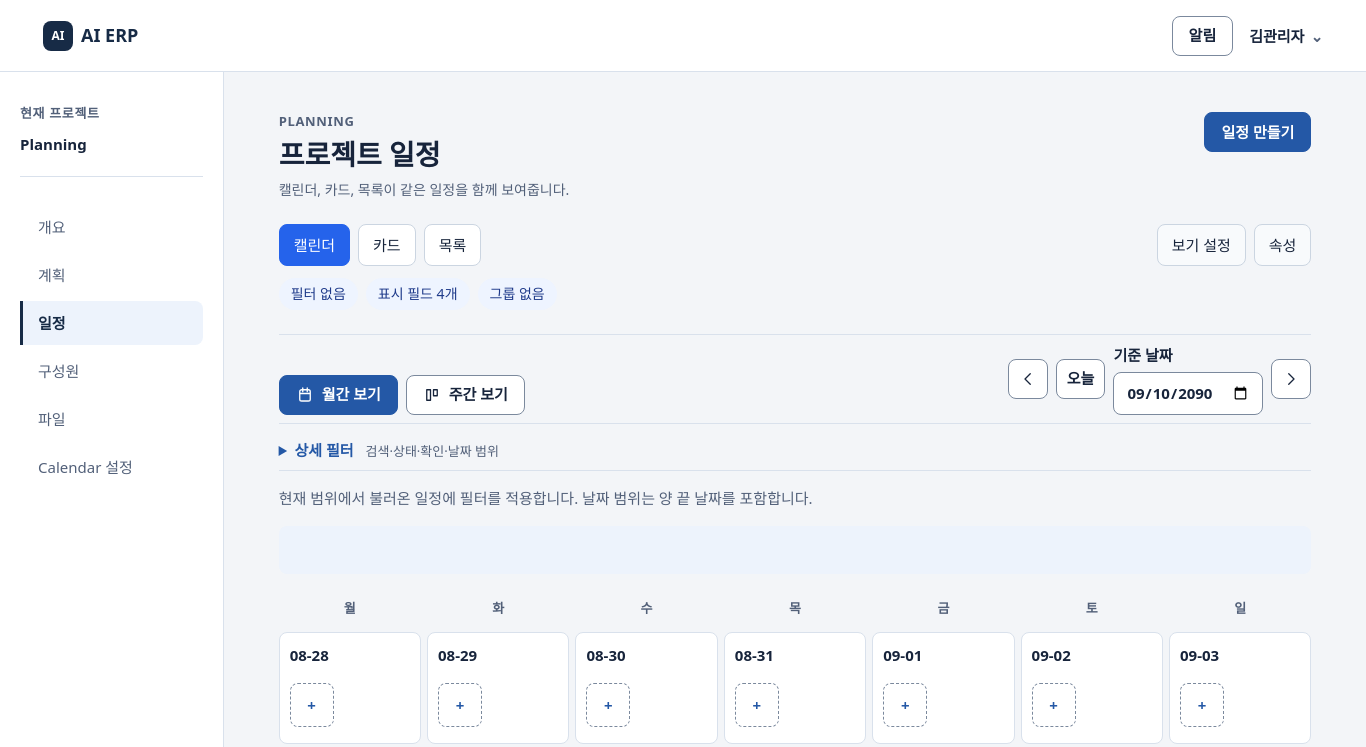
Test: P03 civil-date request includes the entire day across skipped/repeated midnight: America/Santiago
Check: the element named "날짜 이후" is shown, box [279,432,1311,471]
Click the heading "상세 필터 검색·상태·확인·날짜 범위". click: (397, 450)
box: [294,440,499,460]
(page scrolled)
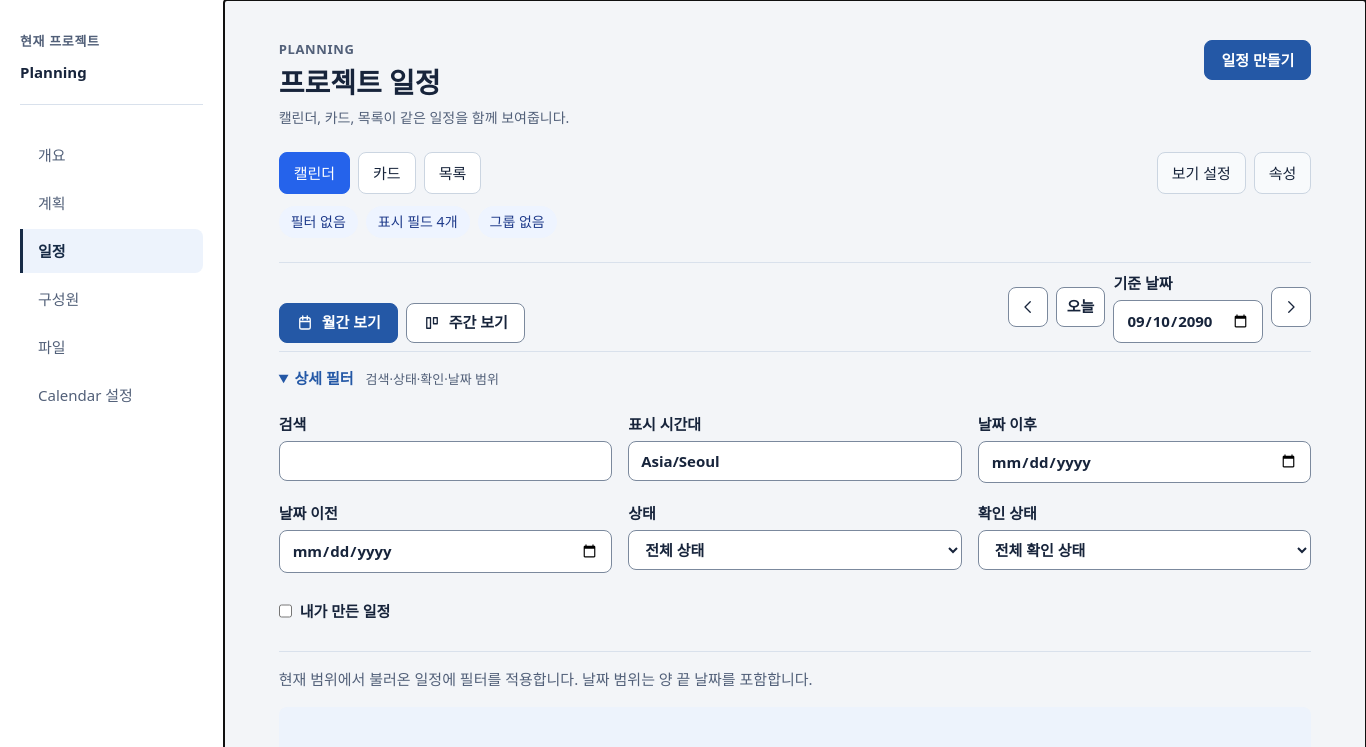
Replace the text in the field labelled "표시 시간대" with "America/Santiago". click: (795, 461)
box: [628,441,962,481]
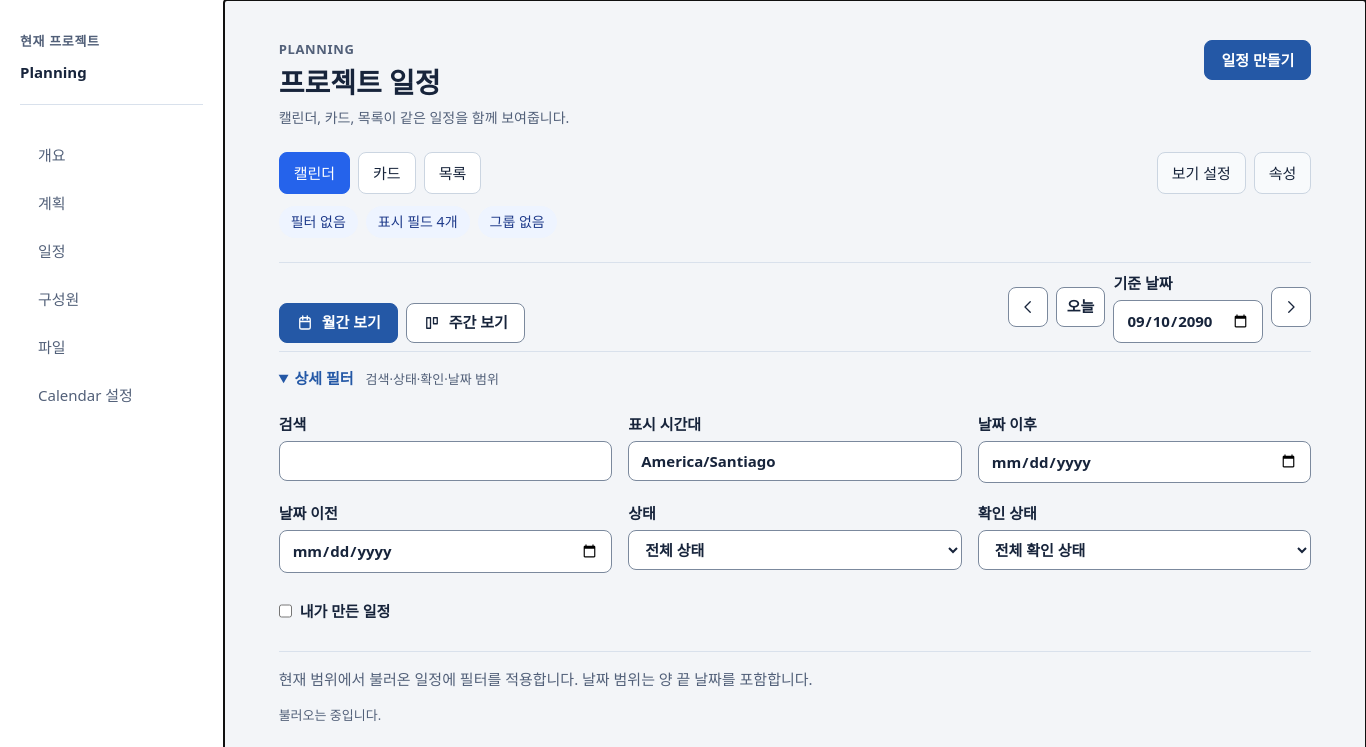
Type "2026-09-06" into the date field labelled "날짜 이후". click: (1145, 462)
box: [978,441,1311,483]
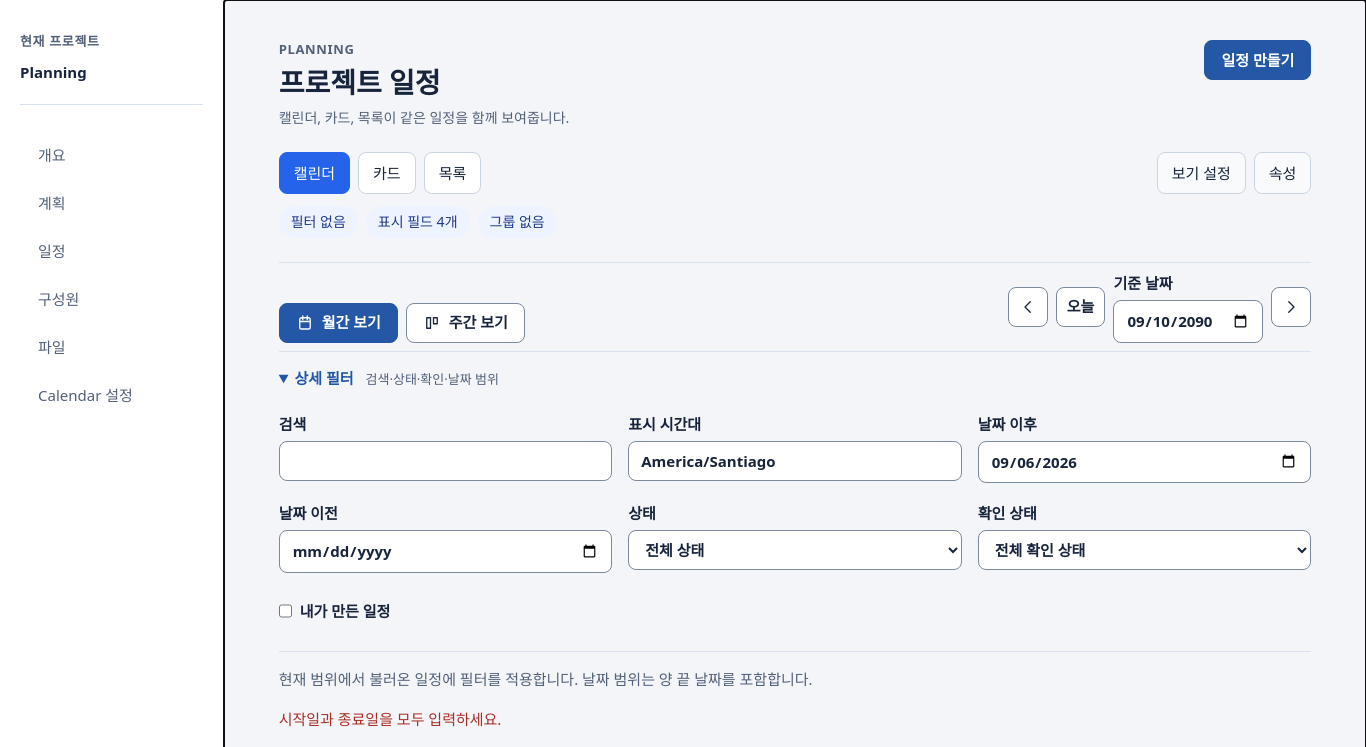
Type "2026-09-06" into the date field labelled "날짜 이전". click: (445, 551)
box: [279,530,612,573]
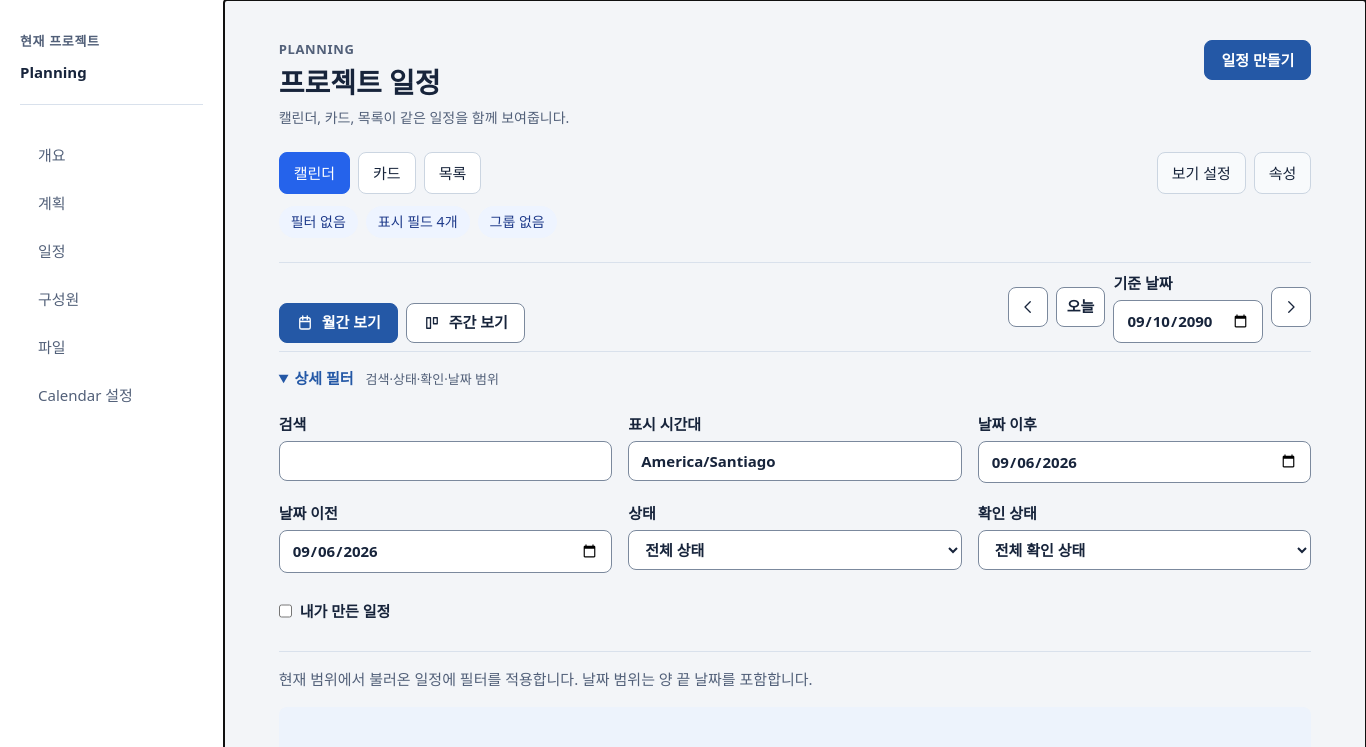
Check: the message "시작일과 종료일을 모두 입력하세요." is gone
